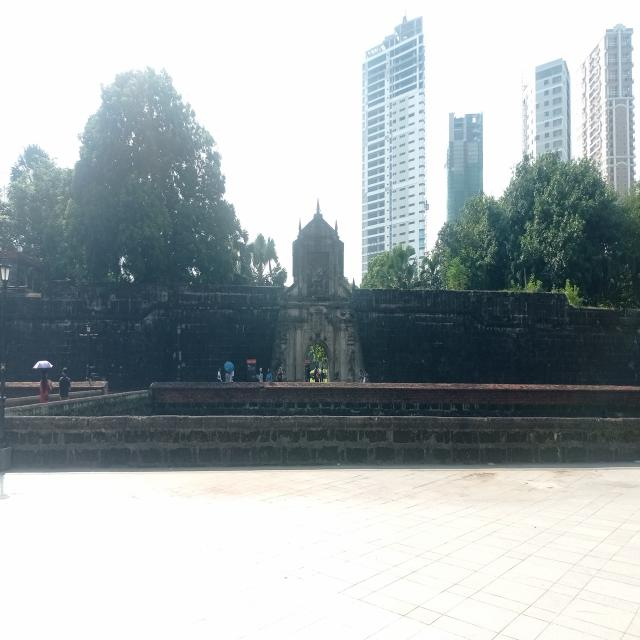Fort Santiago: (0, 200, 640, 384)
